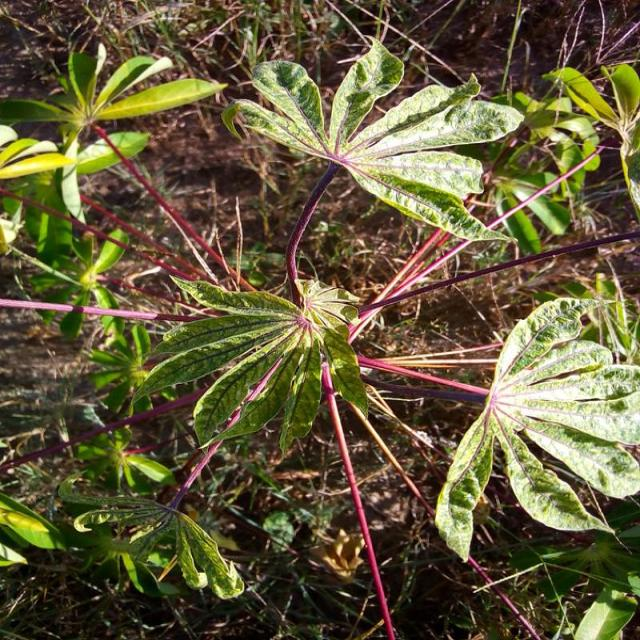cassava leaf: (222, 36, 526, 246), (434, 295, 640, 562), (130, 272, 370, 455)
